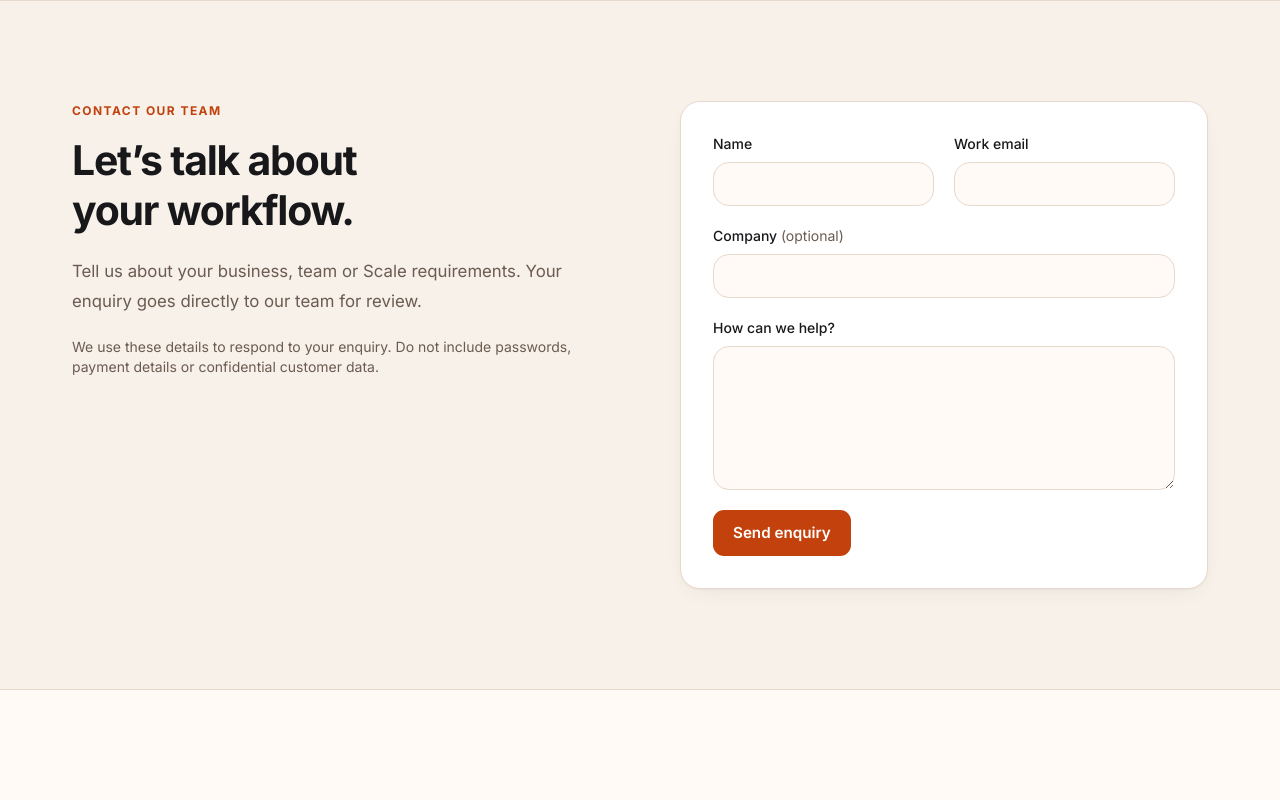
Test case: Contact form › recovers from TypeError without clearing input
In the field labelled "Name": point(824, 184) [713,162,934,206], type "Alex Example"
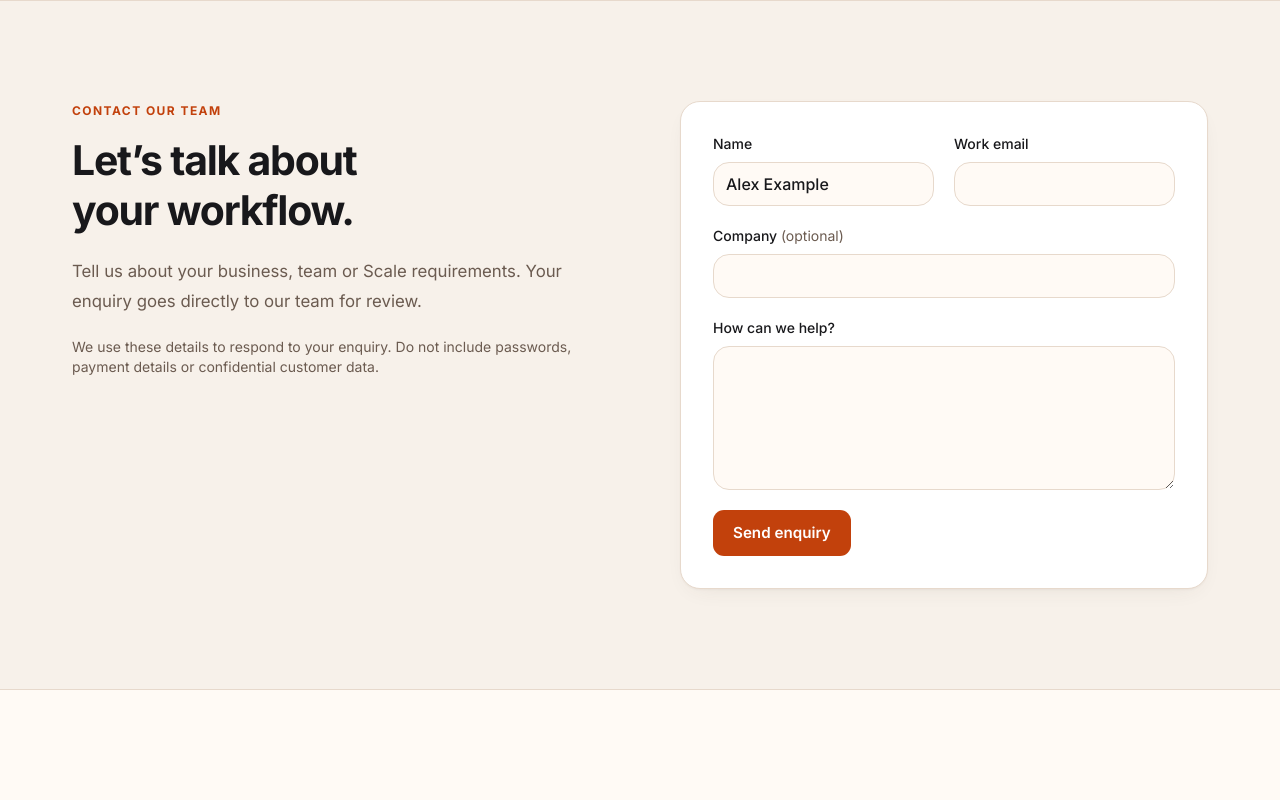
In the field labelled "Work email": point(1064, 184) [954,162,1175,206], type "alex@example.com"
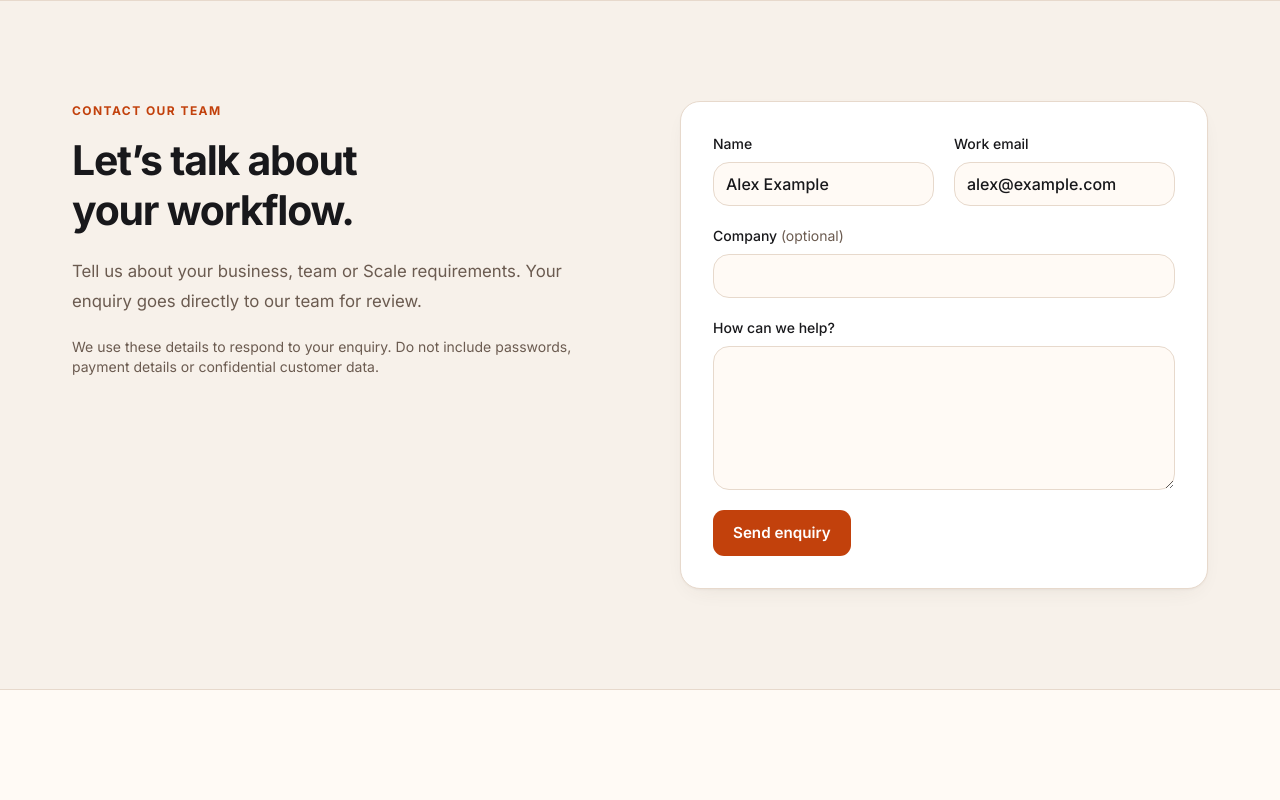
In the field labelled "Company (optional)": point(944, 276) [713,254,1175,298], type "Example Team"
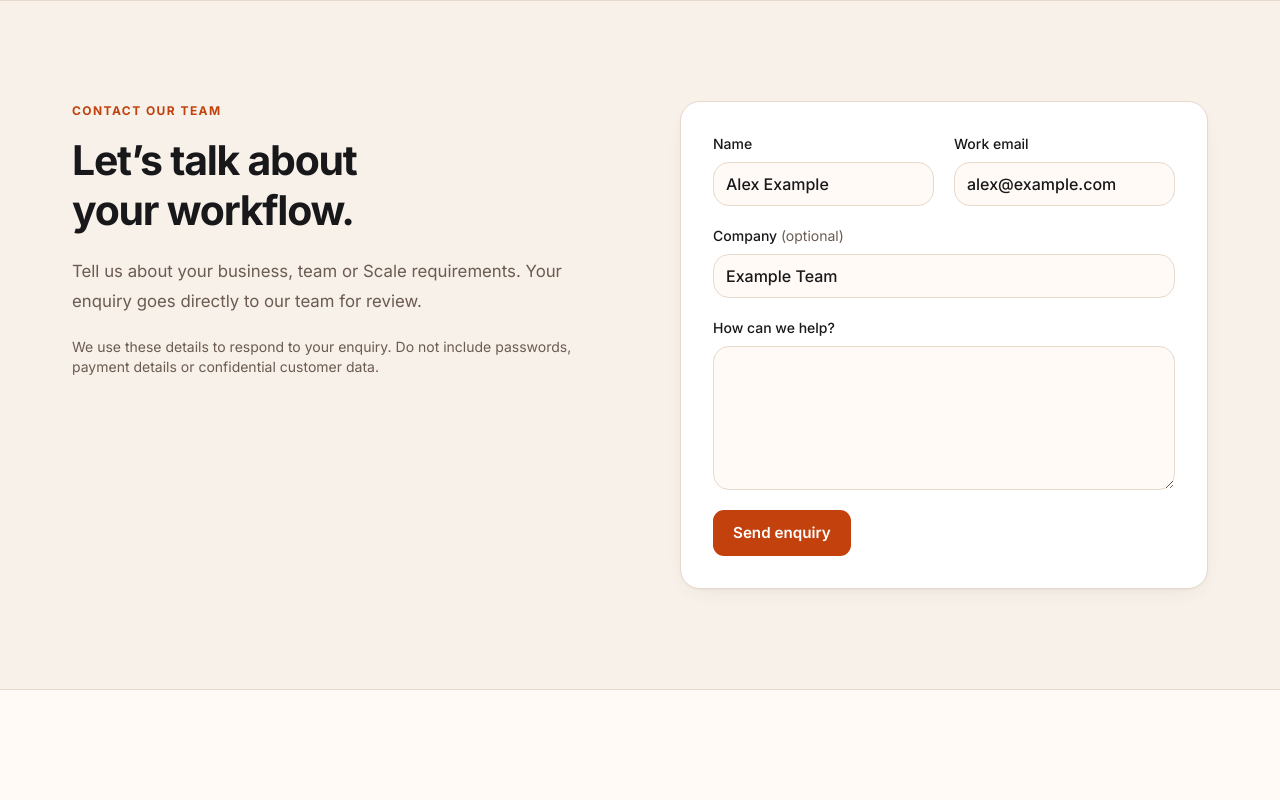
In the text box labelled "How can we help?": point(944, 418) [713,346,1175,490], type "We would like to discuss the Scale plan."
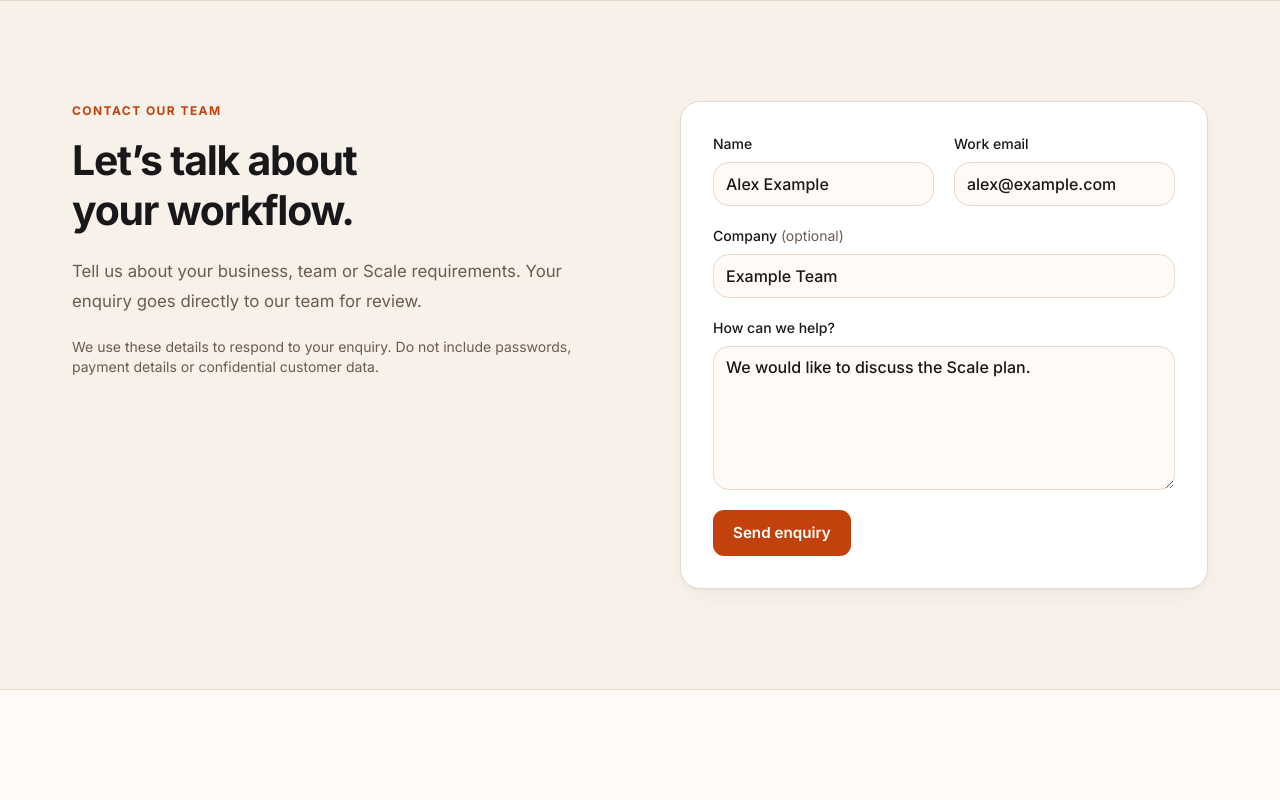
Submit the form "Send enquiry", box [680,101,1208,589]
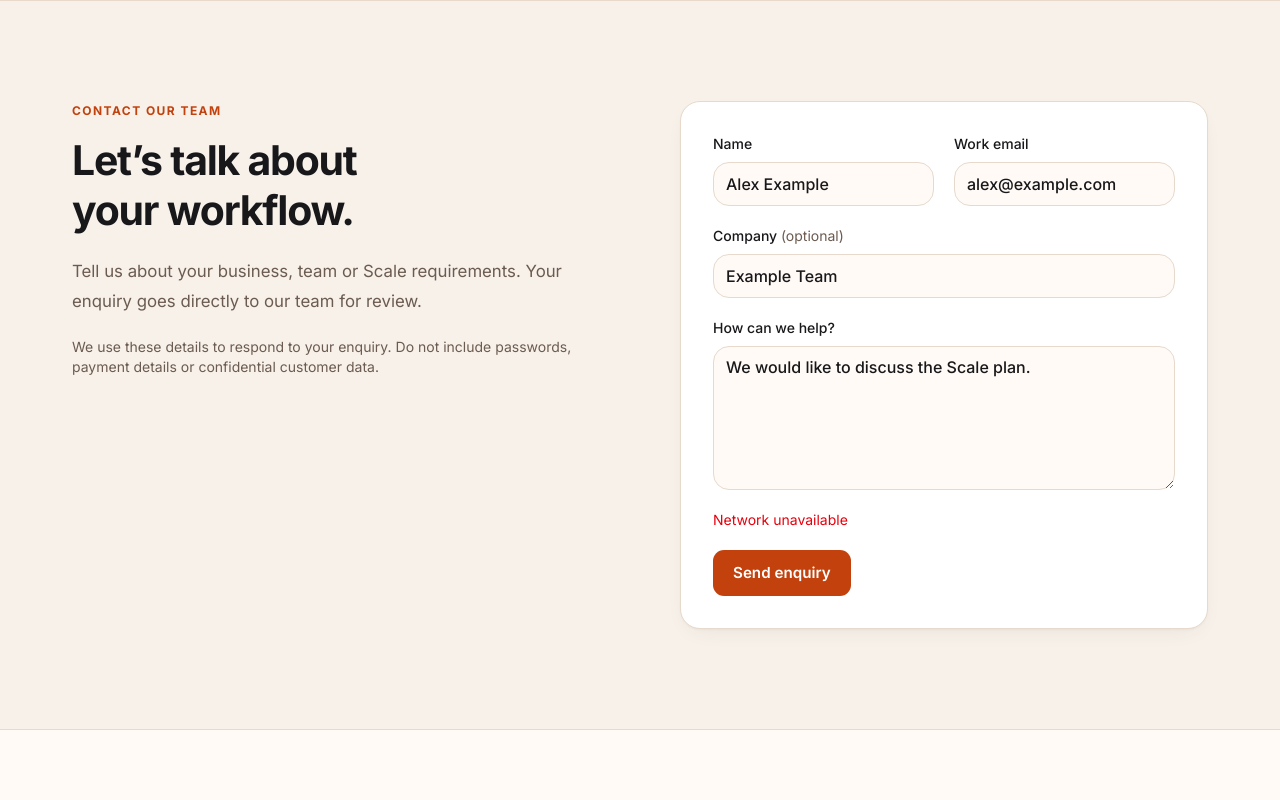
Expected: the button "Send enquiry" is enabled, [713,550,851,596]
Now the message reads "Network unavailable", box [713,511,848,528]
